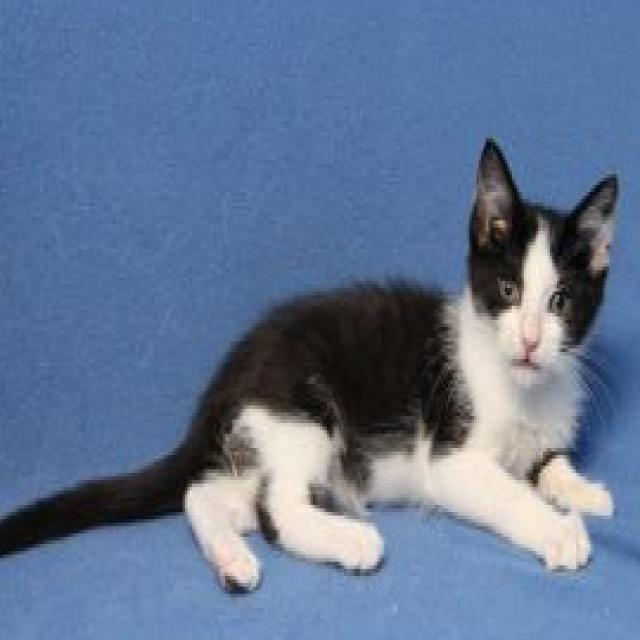Tuxedo: (0, 128, 626, 601)
